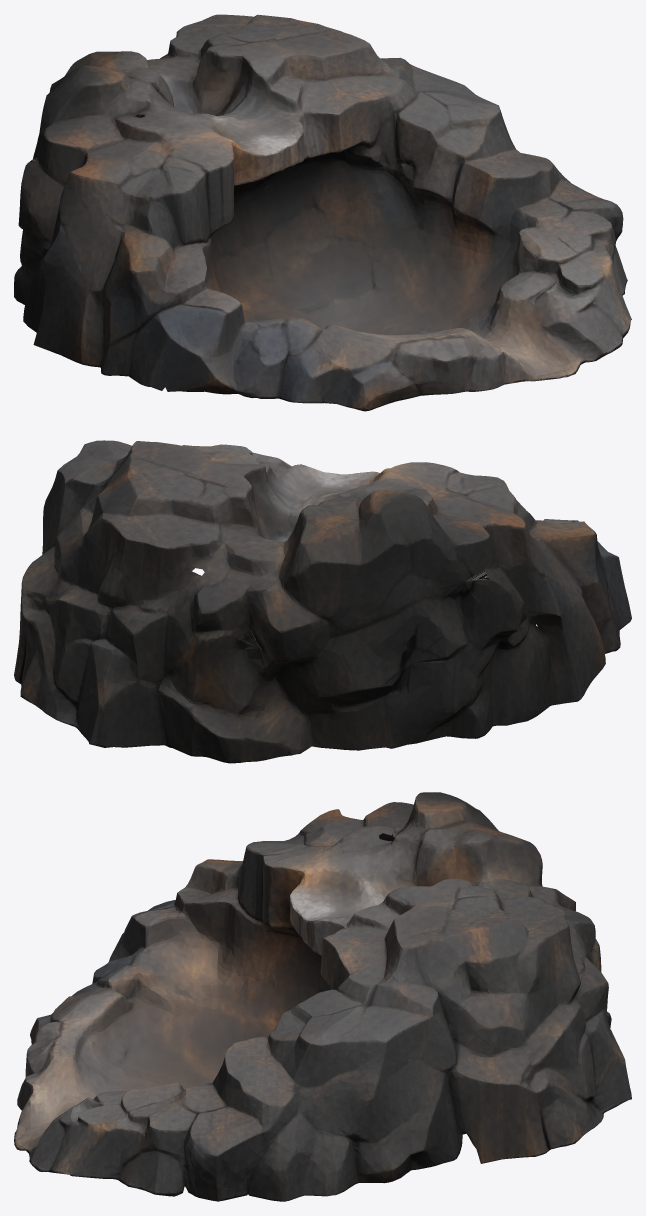
3 views of the same model, one above another, from view 1: azimuth 30°, elevation 25°; view 2: azimuth 150°, elevation 25°; view 3: azimuth 270°, elevation 25° (orthographic). The views are drawn at different scales.
Visible parts, largest first — view 1: geometry_0; view 2: geometry_0; view 3: geometry_0.
Boxes of the visible parts, x1,y1,x2,y2 form: geometry_0: (14, 14, 631, 411); geometry_0: (14, 440, 631, 763); geometry_0: (14, 792, 631, 1201).
Bounding box in the file's own units: 0.9983 × 0.407 × 0.9994.
1 material, 1 textured.
